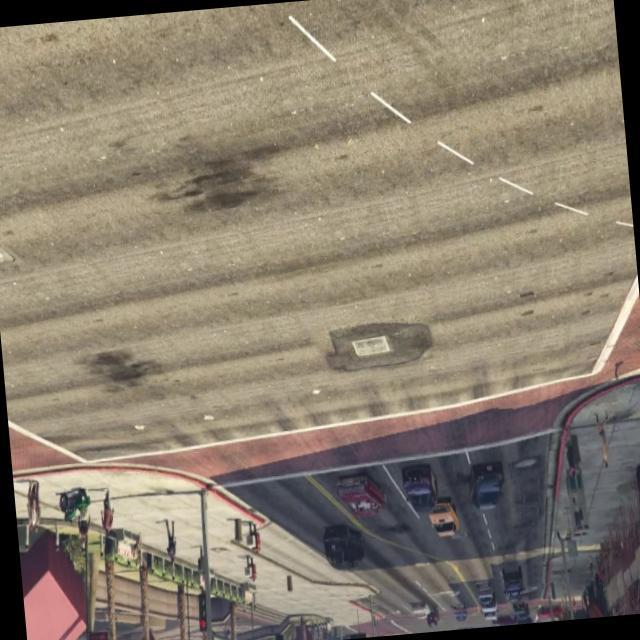Red-Signal: (183, 572, 214, 640), (260, 612, 295, 640), (340, 612, 376, 639)
